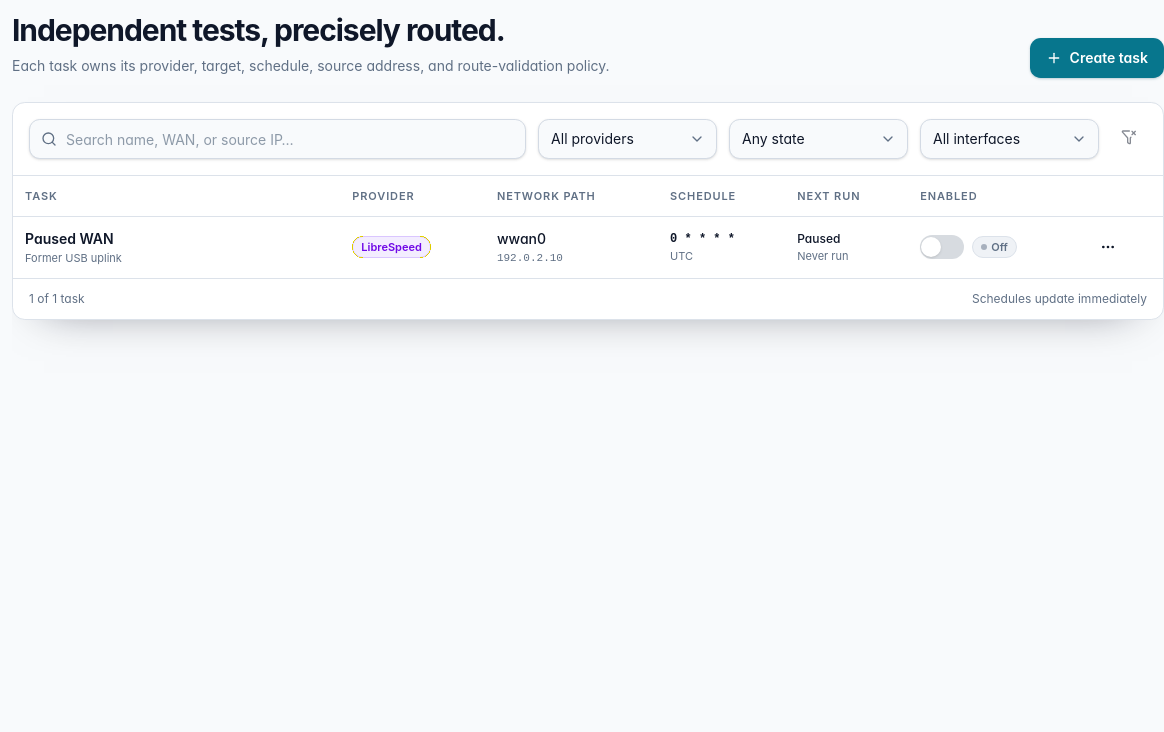
Test: task network-path status › routes disabled tasks through editor preflight instead of enabling inline
The image size is (1164, 732).
Click the switch named "Enable Paused WAN": [942, 247] box left=920, top=235, right=964, bottom=259
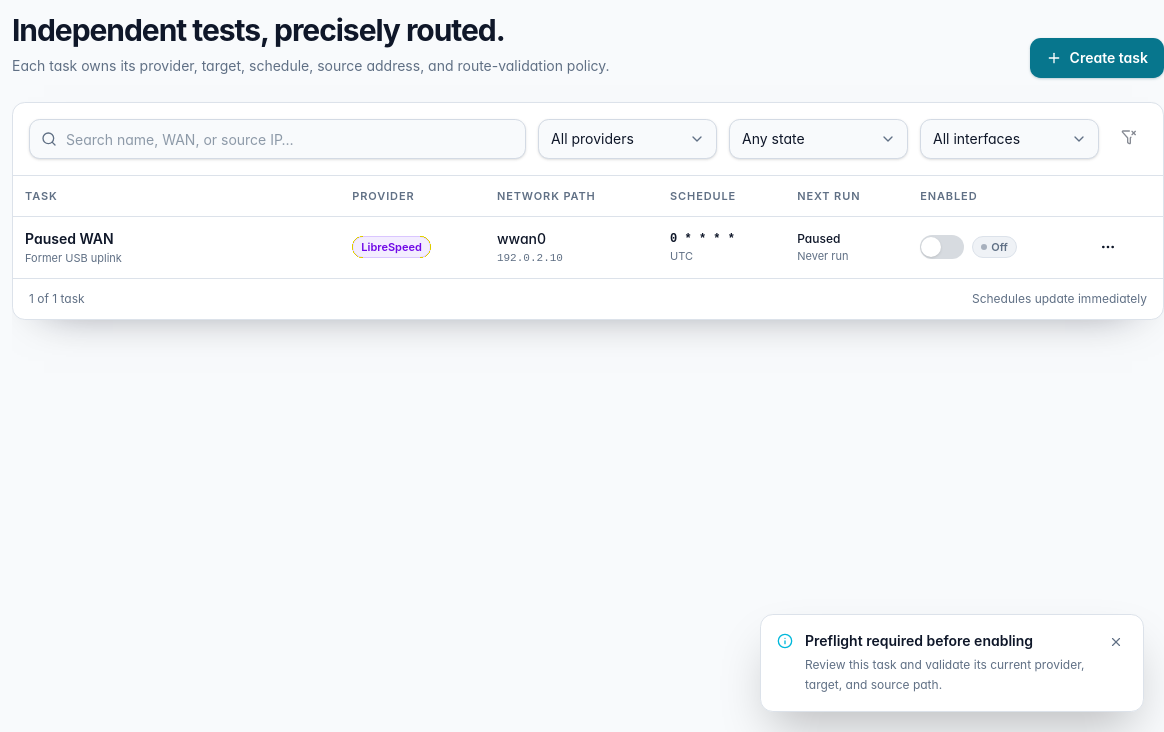
expect the text "Preflight required before enabling" is shown: met, box left=805, top=632, right=1033, bottom=649
